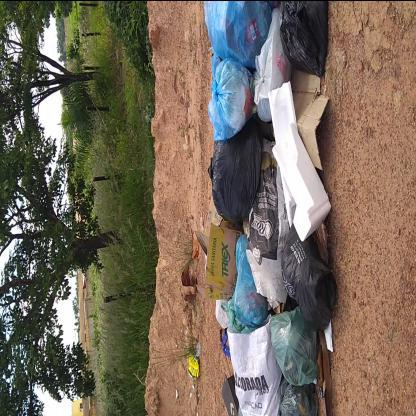lixo: (208, 2, 320, 410)
